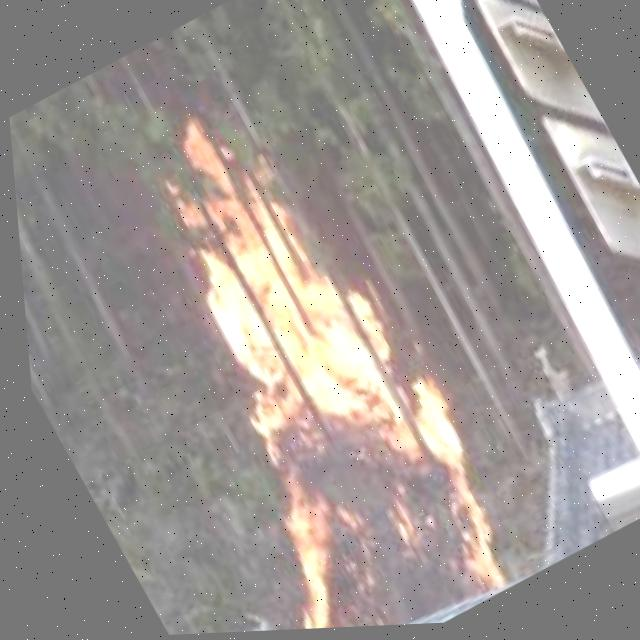Fire: (60, 83, 525, 638)
